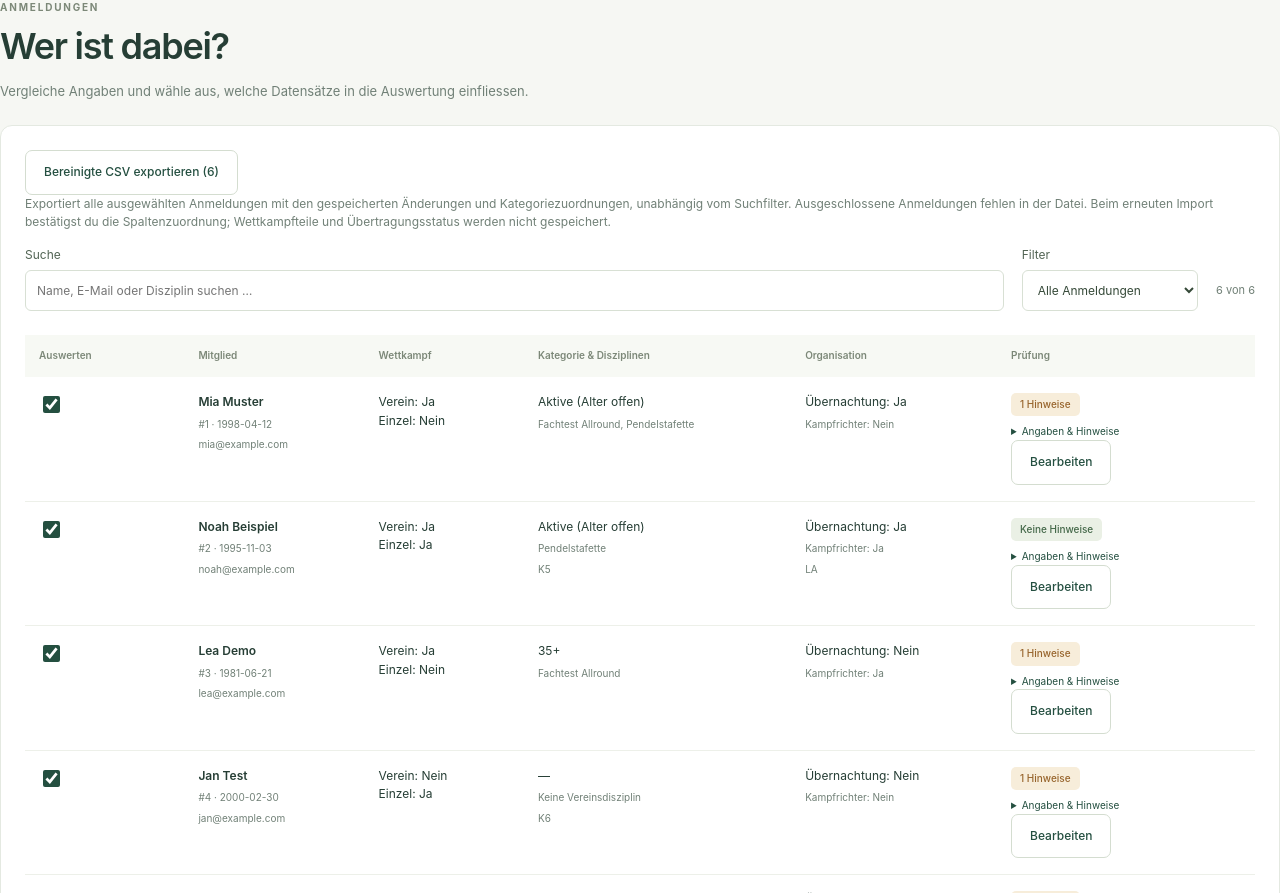
keeps search focus while filtering and exposes source records
The width and height of the screenshot is (1280, 893).
Type "Noah" into the field labelled "Suche" at x=514, y=291, box [25, 270, 1004, 311]
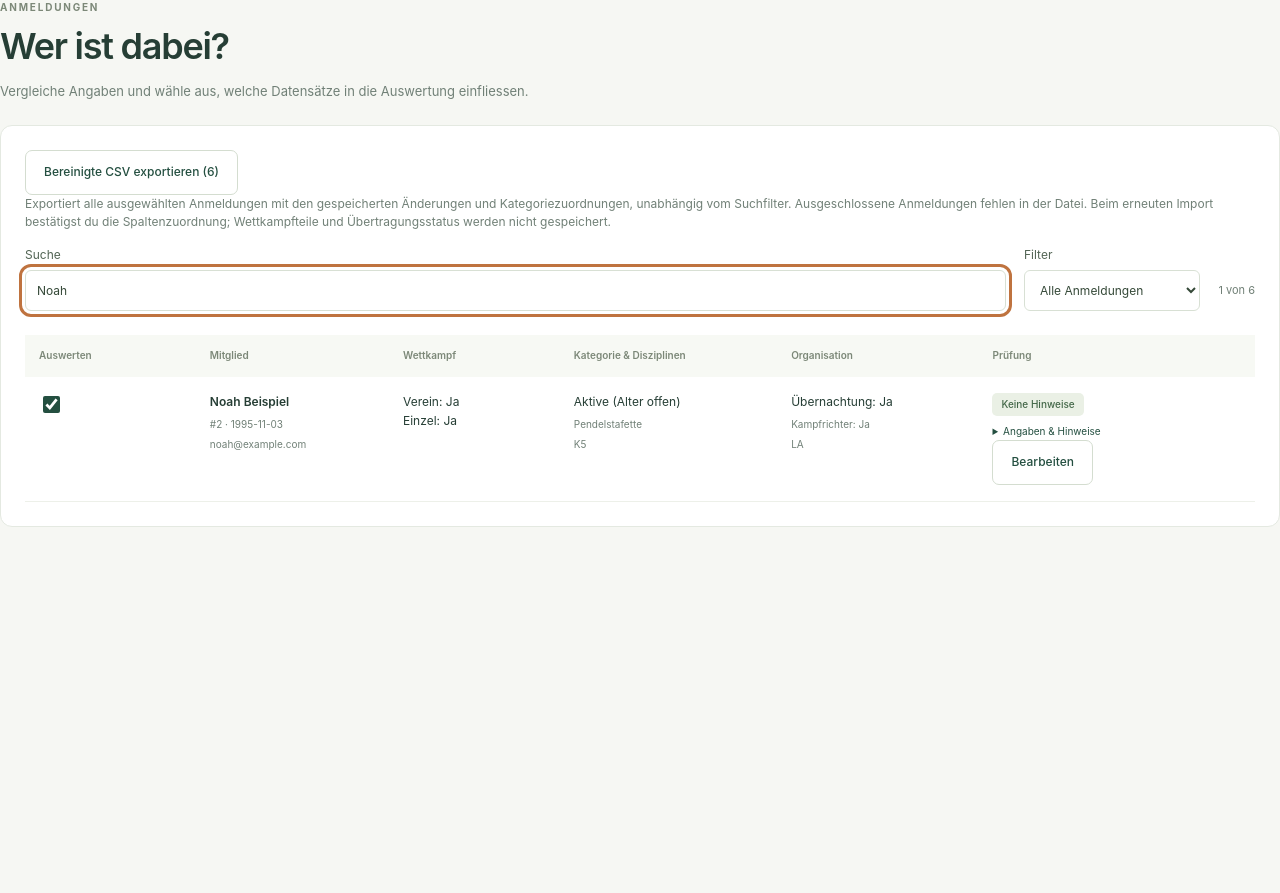
Expected: the text "Noah Beispiel" is shown, [210, 394, 289, 409]
Result: the text "1 von 6" is shown at [1218, 283, 1255, 297]
